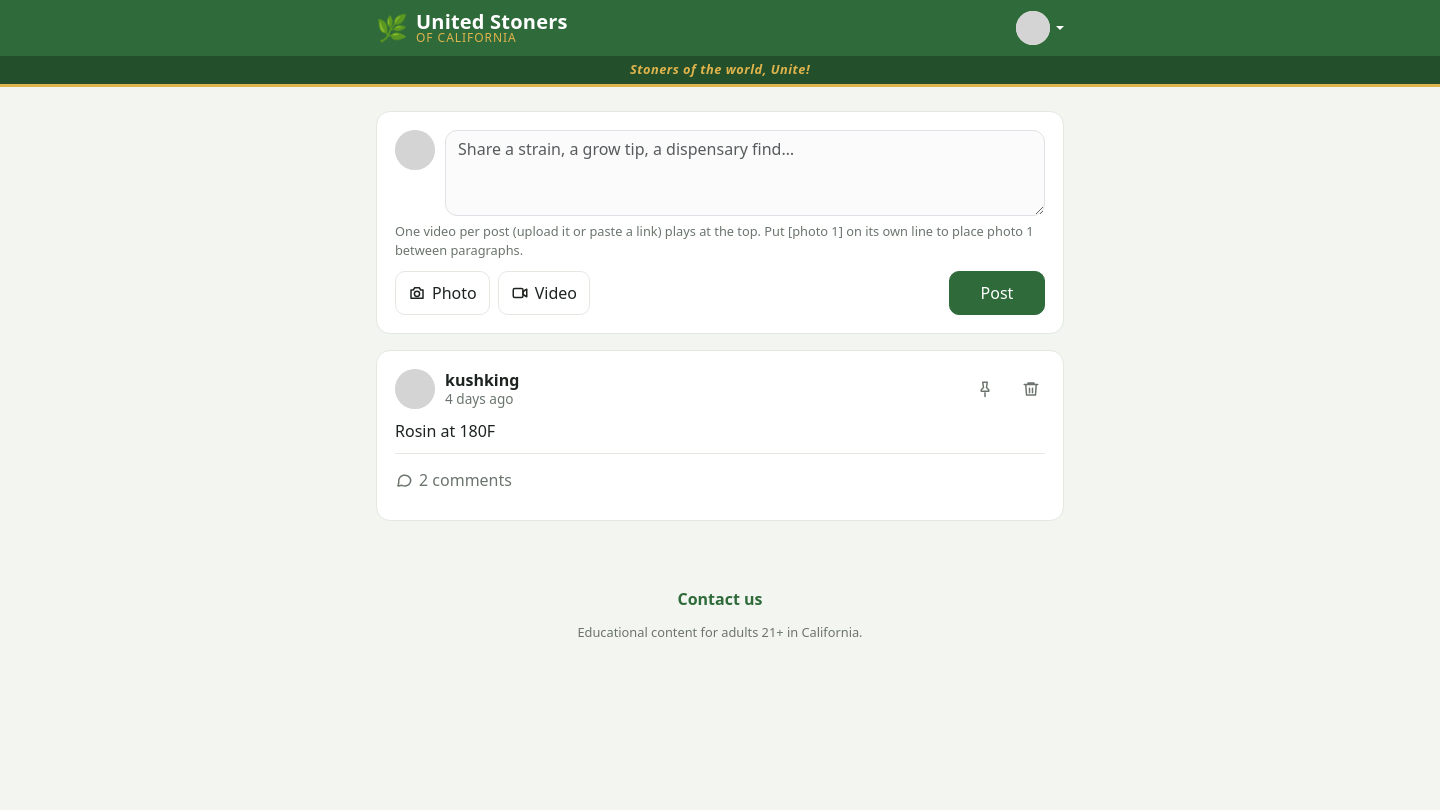
new post emails › if the emails fail the post stays published and the superuser is told
The width and height of the screenshot is (1440, 810).
In the text box with placeholder "Share a strain, a grow tip, a dispensary find…": [745, 173] box [445,130,1045,216], type "Harvest day"
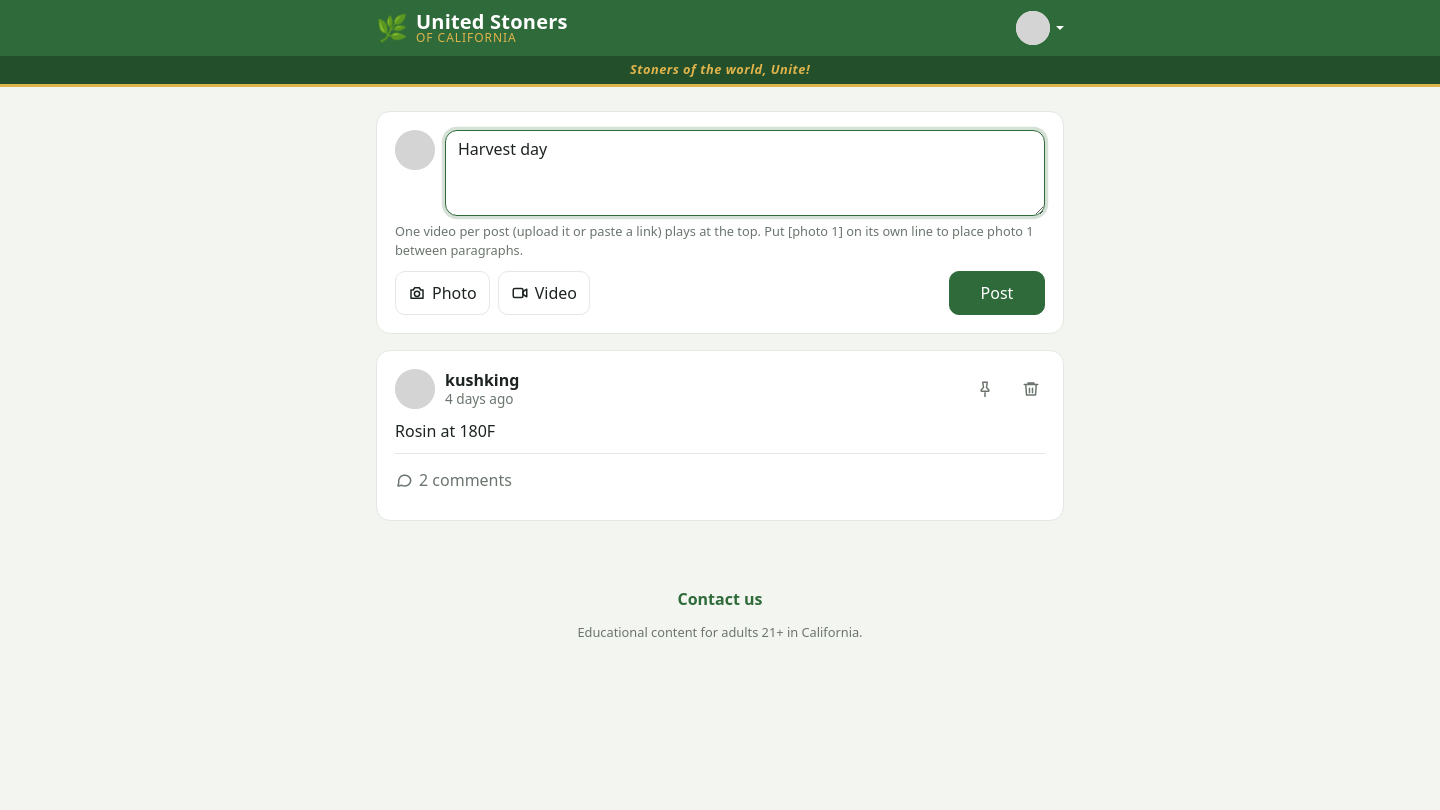
Click the button "Post": [997, 293] box [949,271,1045,315]
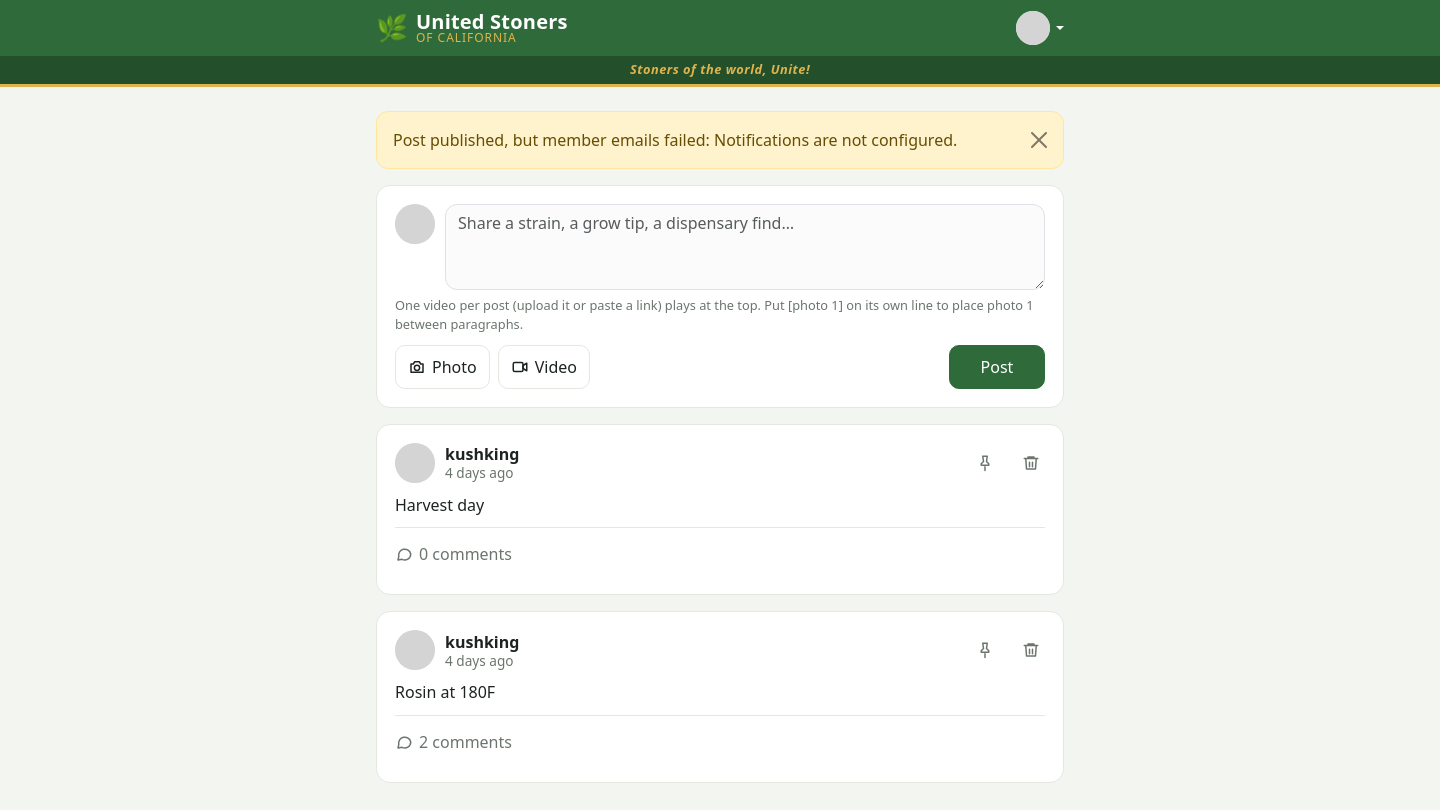
Result: the text "Post published, but member emails failed: Notifications are not configured." is shown at [376,111,1064,169]
Result: the text "Harvest day" is shown at [395,494,484,516]
